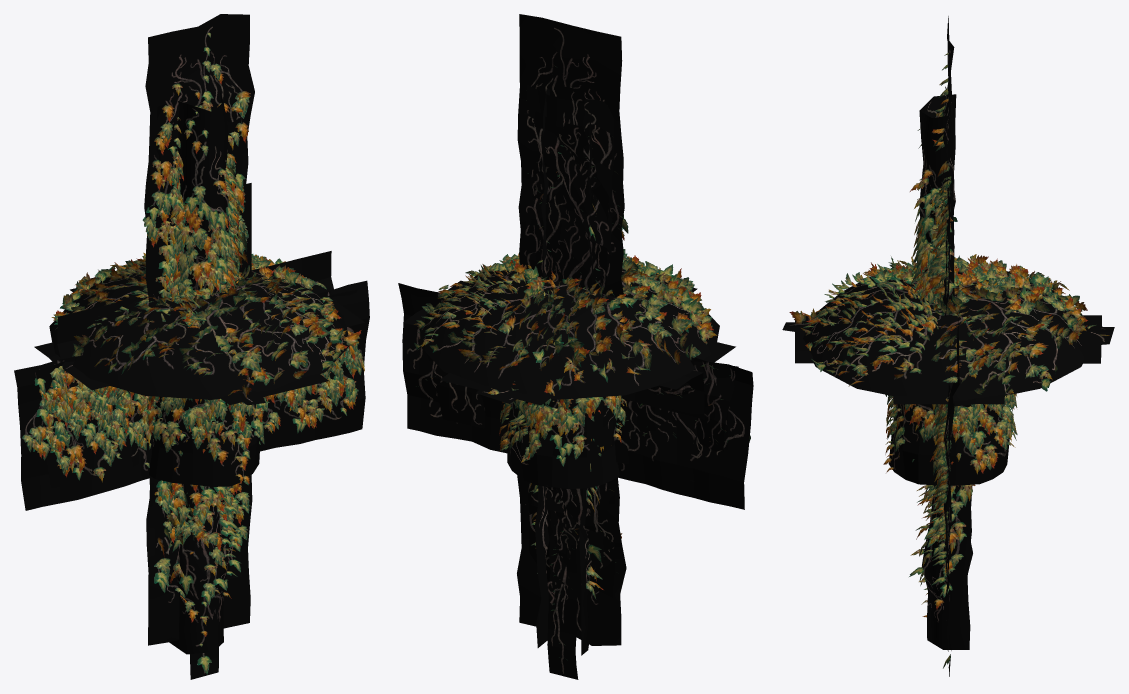
File: IvySimple.FBX
The picture shows the model from 3 angles, left to right: view 1: azimuth 30°, elevation 25°; view 2: azimuth 150°, elevation 25°; view 3: azimuth 270°, elevation 25°; orthographic projection. The views are drawn at different scales.
Visible parts, largest first — view 1: IvyFloorW_1, IvyWallWD_1, IvyWallU_2, IvyCyllU, IvyCyllUW_2, IvyCyllD, IvyWallWD_2, IvyWallD_1, IvyCornerBottom_2, IvyCornerBottom_1, IvyWallU_1, IvyWallD_2 (+3 smaller); view 2: IvyFloorW_1, IvyWallU_2, IvyWallWD_1, IvyCyllUW_2, IvyWallD_1, IvyWallWD_2, IvyWallU_1, IvyCyllD, IvyWallD_6, IvyWallU_3, IvyCornerTop_2, IvyWallU_4 (+5 smaller); view 3: IvyFloorW_1, IvyCyllUW_2, IvyCyllD, IvyCyllU, IvyWallU_2, IvyWallWD_1, IvyWallU_1, IvyFloor_1, IvyFloor_2, IvyWallD_1, IvyCornerBottom_2, IvyCornerTop_2.
Boxes of the visible parts, x1,y1,x2,y2 form: IvyFloorW_1: (49, 252, 361, 399); IvyWallWD_1: (14, 280, 369, 510); IvyWallU_2: (142, 14, 254, 302); IvyCyllU: (161, 91, 243, 301); IvyCyllUW_2: (145, 396, 267, 486); IvyCyllD: (168, 483, 240, 654); IvyWallWD_2: (35, 289, 357, 487); IvyWallD_1: (146, 433, 252, 645); IvyCornerBottom_2: (57, 251, 364, 390); IvyCornerBottom_1: (149, 183, 304, 403); IvyWallU_1: (156, 103, 248, 298); IvyWallD_2: (153, 479, 241, 579); IvyFloorW_1: (414, 249, 719, 399); IvyWallU_2: (517, 14, 628, 297); IvyWallWD_1: (398, 283, 753, 509); IvyCyllUW_2: (499, 395, 626, 488); IvyWallD_1: (517, 400, 626, 645); IvyWallWD_2: (410, 294, 738, 481); IvyWallU_1: (526, 84, 614, 296); IvyCyllD: (529, 483, 603, 655); IvyWallD_6: (547, 535, 579, 679); IvyWallU_3: (530, 111, 609, 294); IvyCornerTop_2: (403, 306, 704, 419); IvyWallU_4: (556, 85, 584, 181); IvyFloorW_1: (801, 254, 1093, 400); IvyCyllUW_2: (883, 393, 1017, 485); IvyCyllD: (909, 484, 975, 649); IvyCyllU: (910, 94, 957, 304); IvyWallU_2: (932, 16, 955, 316); IvyWallWD_1: (930, 383, 953, 543); IvyWallU_1: (927, 86, 951, 308); IvyFloor_1: (795, 315, 1101, 363); IvyFloor_2: (782, 308, 1114, 344); IvyWallD_1: (928, 494, 951, 651); IvyCornerBottom_2: (893, 255, 959, 404); IvyCornerTop_2: (951, 388, 1004, 448).
Size of the model in its own units: 183 by 325 by 154.
